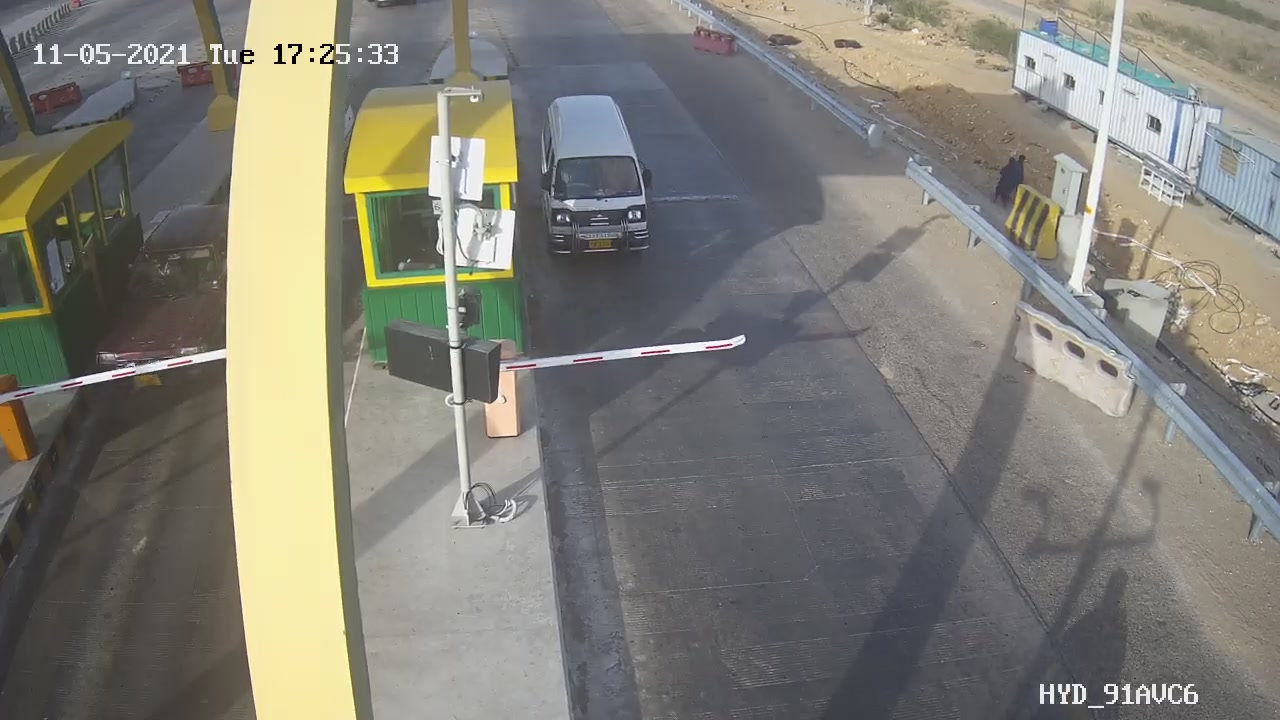F1: (521, 79, 666, 275)
